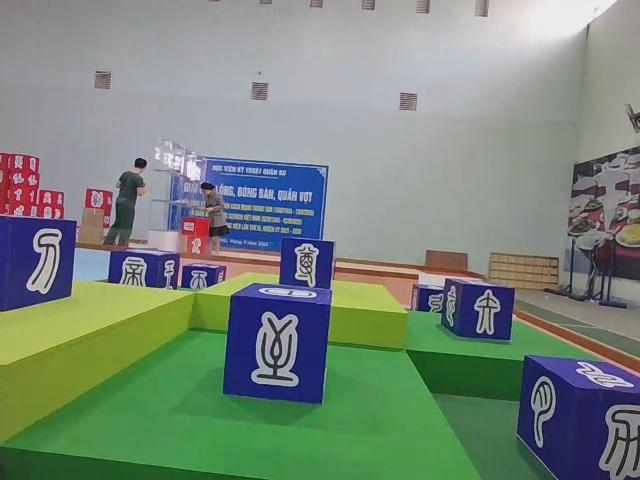R2 Fake Blue: (517, 356, 638, 480), (223, 283, 333, 405), (0, 214, 77, 314), (442, 278, 516, 342), (278, 237, 335, 292), (109, 248, 182, 290), (182, 263, 228, 291), (411, 284, 445, 313)
